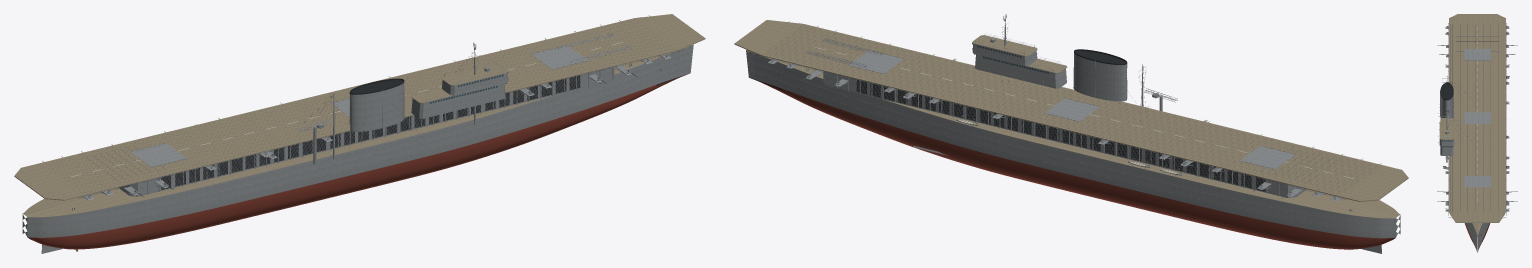
File: demo-hornet.glb
3 renders of one model, left to right at view 1: azimuth 30°, elevation 25°; view 2: azimuth 150°, elevation 25°; view 3: azimuth 270°, elevation 25°, orthographic. The views are drawn at different scales.
Visible parts, largest first — view 1: USS Hornet (CV-8), Midway1942; view 2: USS Hornet (CV-8), Midway1942; view 3: USS Hornet (CV-8), Midway1942.
Part boxes in pixels (bbox=[...]): USS Hornet (CV-8), Midway1942: bbox=[14, 14, 705, 253]; USS Hornet (CV-8), Midway1942: bbox=[734, 14, 1408, 253]; USS Hornet (CV-8), Midway1942: bbox=[1437, 14, 1517, 252].
Bounding box in the file's own units: 247 × 45.65 × 39.92.
Materials: 9 (2 with a texture image).
